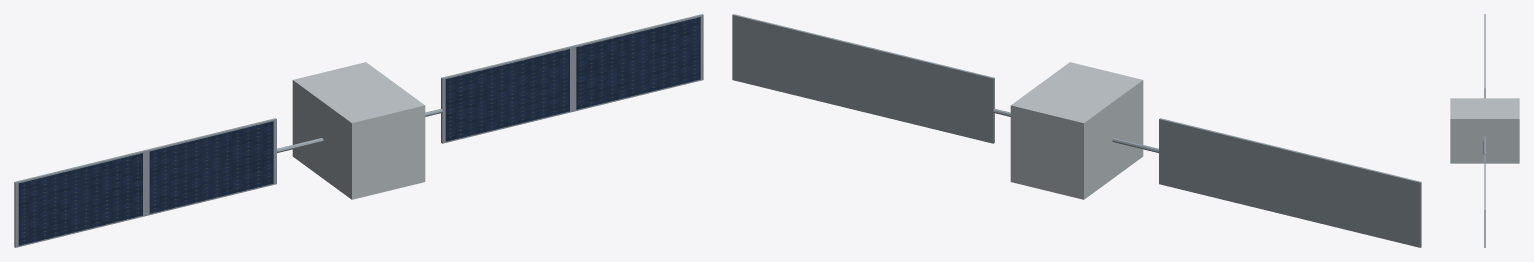
File: ref-strix-47253.glb
3 renders of one model, left to right at view 1: azimuth 30°, elevation 25°; view 2: azimuth 150°, elevation 25°; view 3: azimuth 270°, elevation 25°, orthographic. The views are drawn at different scales.
Parts seen in each view (by area): view 1: Photovoltaic laminates (×4), Spacecraft body, Array frame (×4); view 2: Array frame (×4), Spacecraft body; view 3: Spacecraft body, Array frame (×4), Solar array drive.
Part boxes in pixels (bbox=[...]): Photovoltaic laminates (×4): bbox=[18, 17, 700, 245]; Spacecraft body: bbox=[292, 62, 425, 199]; Array frame (×4): bbox=[14, 14, 703, 247]; Array frame (×4): bbox=[732, 14, 1421, 247]; Spacecraft body: bbox=[1010, 62, 1143, 199]; Spacecraft body: bbox=[1450, 98, 1519, 163]; Array frame (×4): bbox=[1484, 14, 1485, 247]; Solar array drive: bbox=[1483, 141, 1486, 154].
Size of the model in its own units: 4.7 by 0.5 by 0.7.
3 materials, 1 textured.
